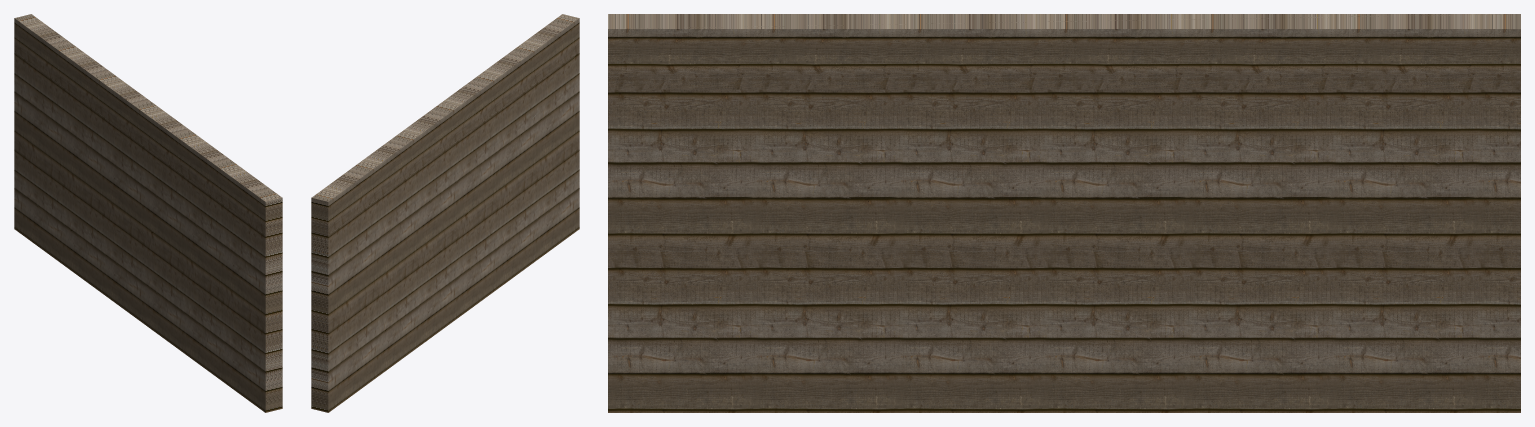
File: R1_Kanan.fbx
3 views of the same model, side by side, from view 1: azimuth 30°, elevation 25°; view 2: azimuth 150°, elevation 25°; view 3: azimuth 270°, elevation 25° (orthographic). The views are drawn at different scales.
Parts seen in each view (by area): view 1: Cube.019; view 2: Cube.019; view 3: Cube.019.
Boxes of the visible parts, x1,y1,x2,y2 form: Cube.019: (14, 14, 282, 412); Cube.019: (311, 14, 579, 412); Cube.019: (608, 14, 1520, 412).
Bounding box in the file's own units: 0.7 × 8.31 × 17.9.
Materials: 1 (1 with a texture image).
